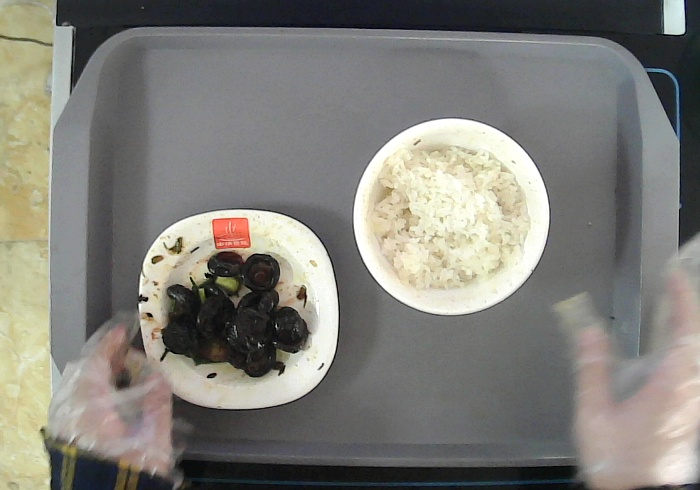SHKJ-Bai_Se_Si_Fang_Cai_Die: (138, 209, 339, 408)
SHKJ-Fan_Wan: (352, 117, 551, 316)
